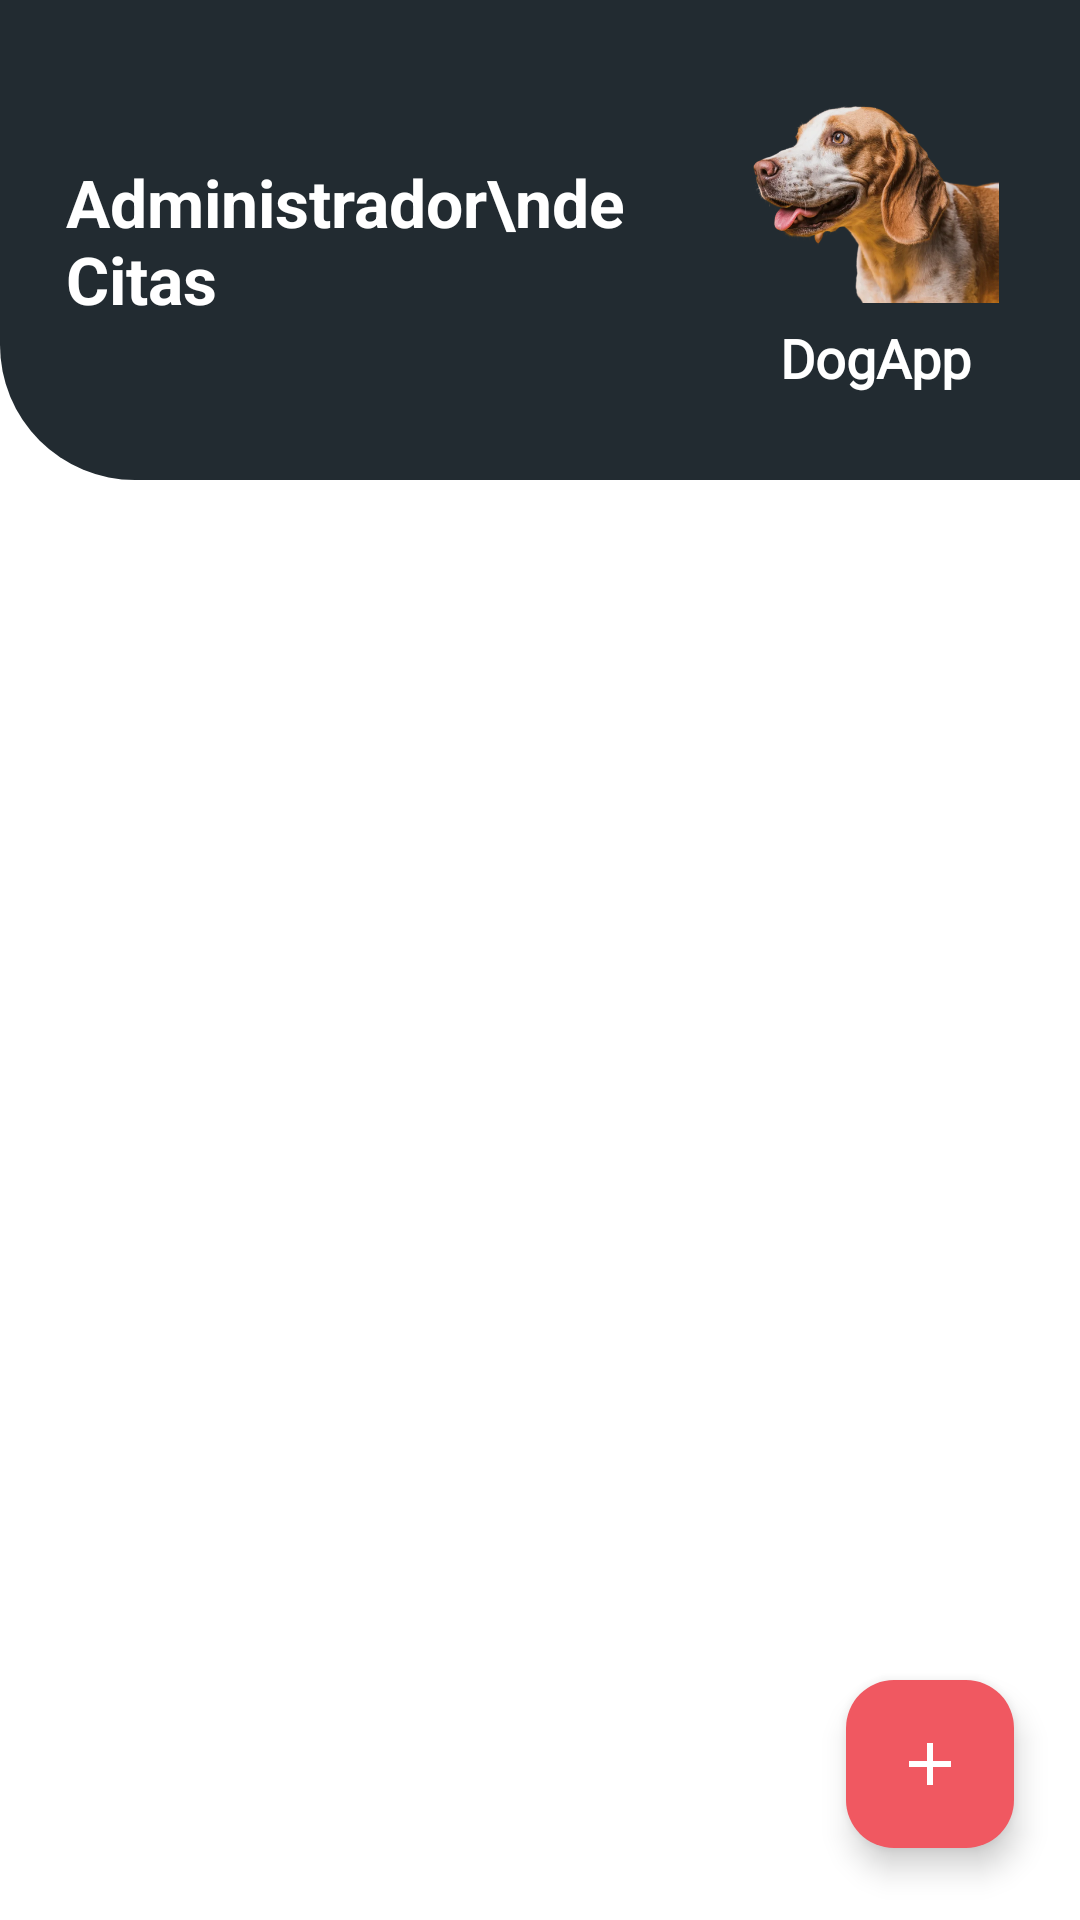

Icon click points for this 1080x1920 phone screenshot, format (x,y):
Nueva cita: (930,1764)
